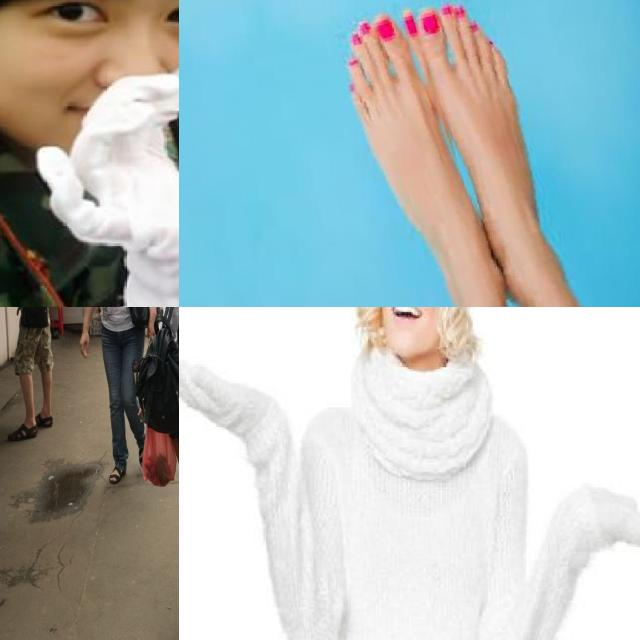Barefoots: (415, 0, 591, 307), (337, 0, 509, 307)
face_nomask: (0, 0, 179, 145), (371, 307, 460, 361)
hand_glove: (41, 57, 179, 307), (179, 357, 259, 446), (589, 476, 640, 558)
person: (179, 307, 640, 640), (0, 0, 179, 307)
